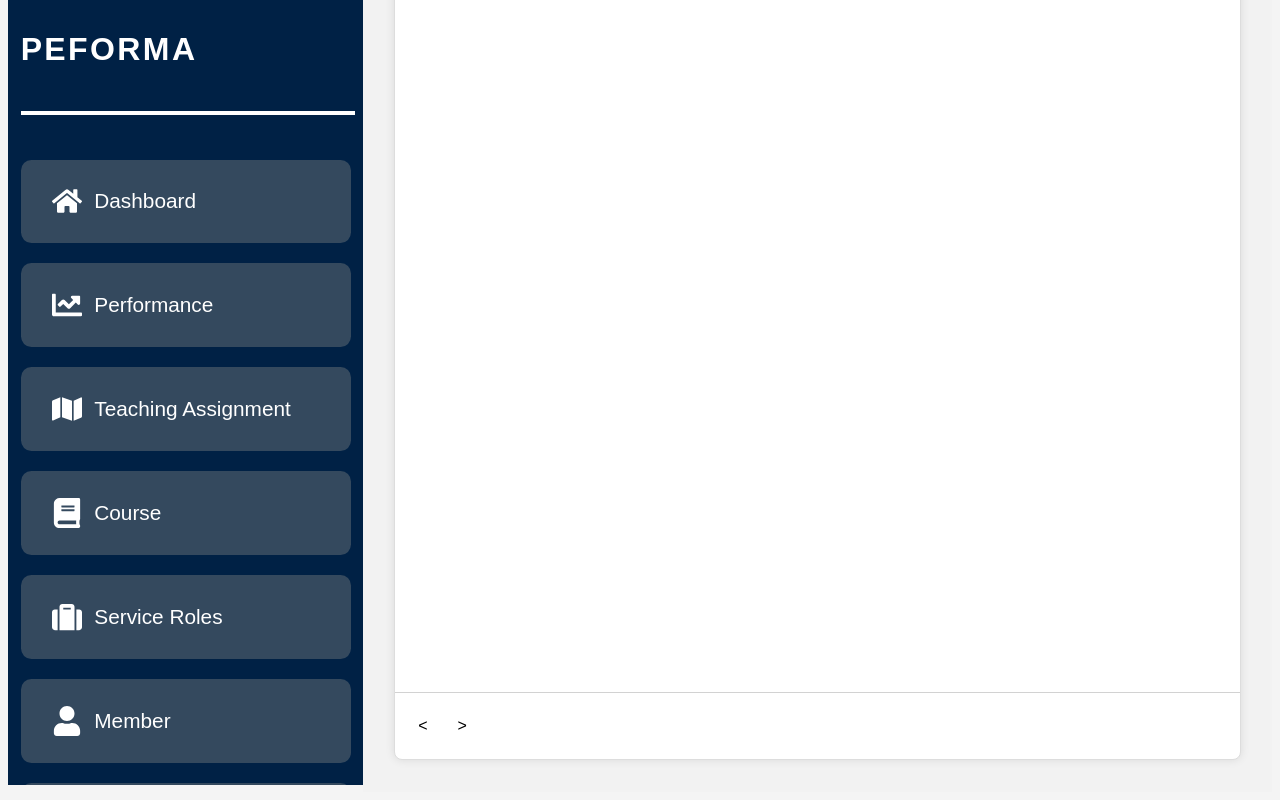
Scenario: DeptServiceRoleList › Testing filledRoles function is working
(page scrolled)
Click the button ">" at (462, 726), box [447,711,478,740]
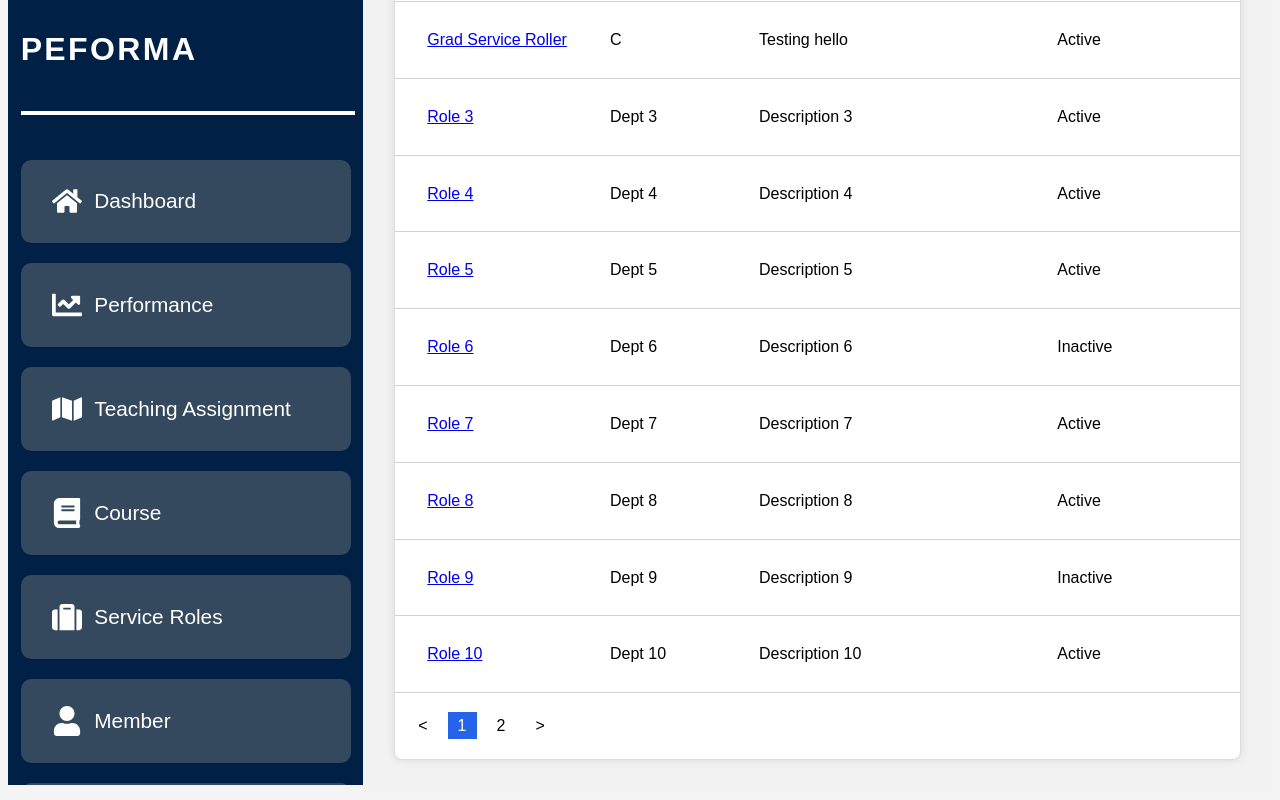
Result: the number of rows is 10
